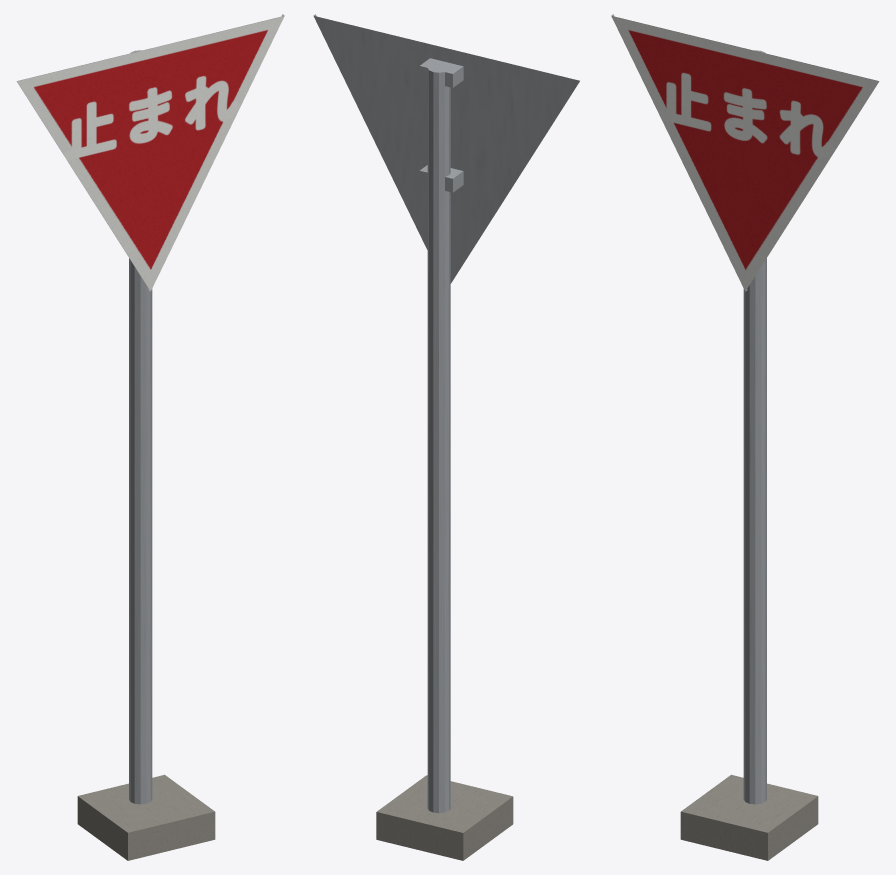
The model's file is tomare.glb.
3 views of the same model, side by side, from view 1: azimuth 30°, elevation 25°; view 2: azimuth 150°, elevation 25°; view 3: azimuth 330°, elevation 25° (orthographic).
Parts seen in each view (by area): view 1: tomare; view 2: tomare; view 3: tomare.
Part boxes in pixels (x1=…): tomare: x1=16, y1=14, x2=284, y2=860; tomare: x1=313, y1=14, x2=579, y2=860; tomare: x1=611, y1=14, x2=879, y2=860.
Bounding box in the file's own units: 0.8 × 2.24 × 0.26.
1 material, 1 textured.
